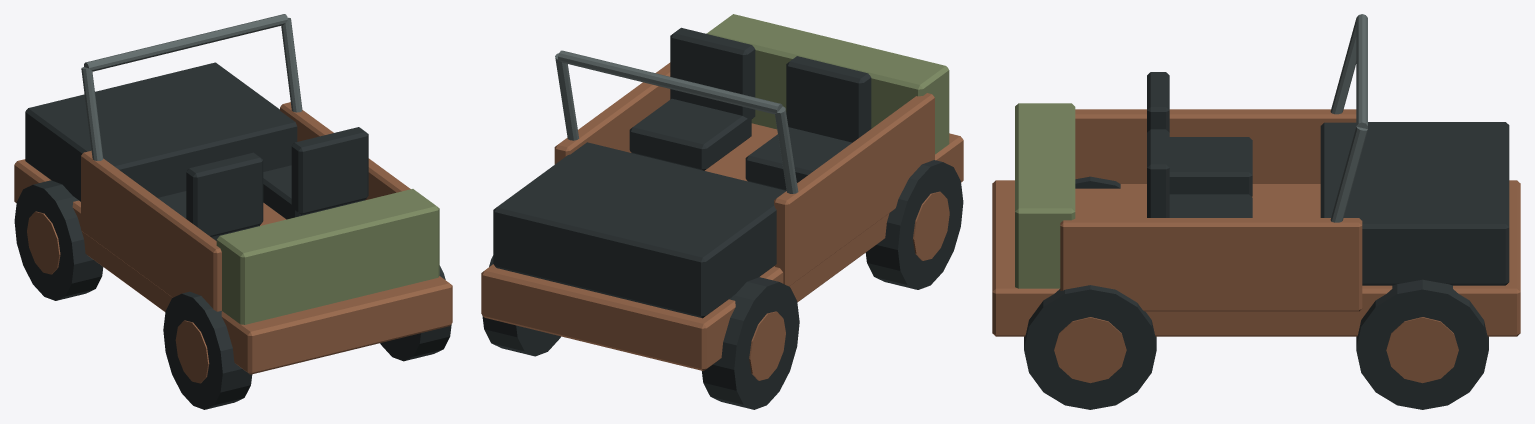
File: jeep_wreck.glb
3 views of the same model, side by side, from view 1: azimuth 30°, elevation 25°; view 2: azimuth 150°, elevation 25°; view 3: azimuth 270°, elevation 25° (orthographic). The views are drawn at different scales.
Parts seen in each view (by area): view 1: jeep_wreck; view 2: jeep_wreck; view 3: jeep_wreck.
Part boxes in pixels (x1=…): jeep_wreck: x1=14, y1=14, x2=452, y2=409; jeep_wreck: x1=481, y1=14, x2=963, y2=409; jeep_wreck: x1=992, y1=14, x2=1520, y2=409.
Size of the model in its own units: 1.98 by 2.04 by 3.5.
